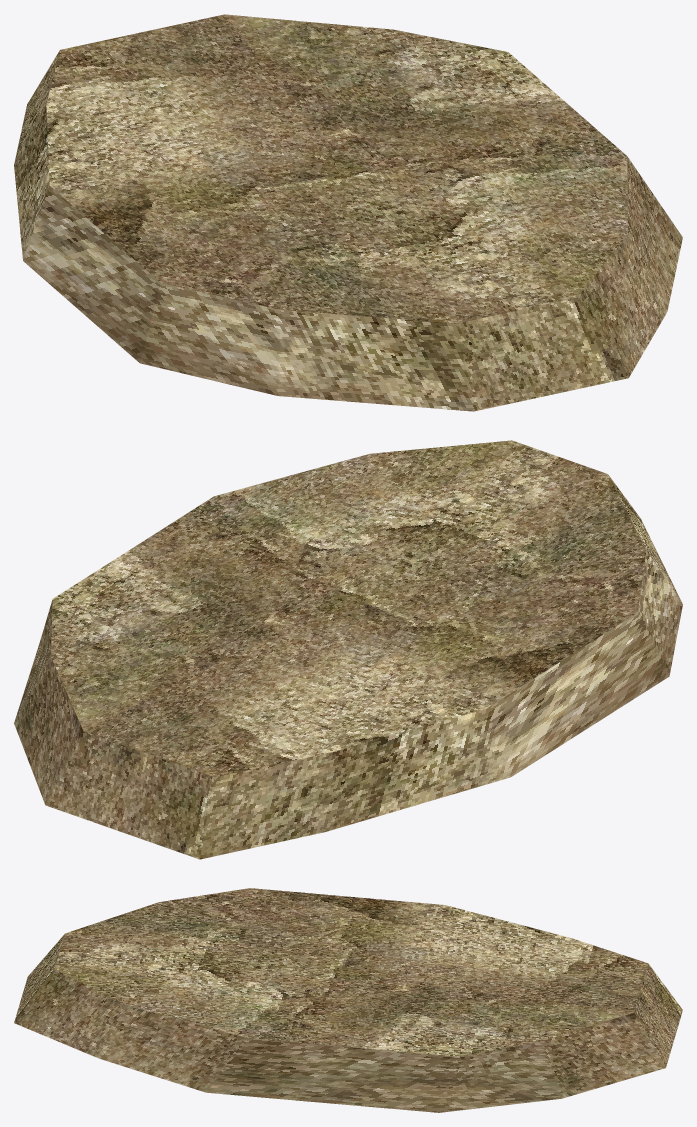
Rendered from stage-east-p7-130.glb.
3 renders of one model, top to bottom at view 1: azimuth 30°, elevation 25°; view 2: azimuth 150°, elevation 25°; view 3: azimuth 270°, elevation 25°, orthographic. The views are drawn at different scales.
Size of the model in its own units: 7.16 by 1.34 by 10.7.
1 material, 1 textured.
